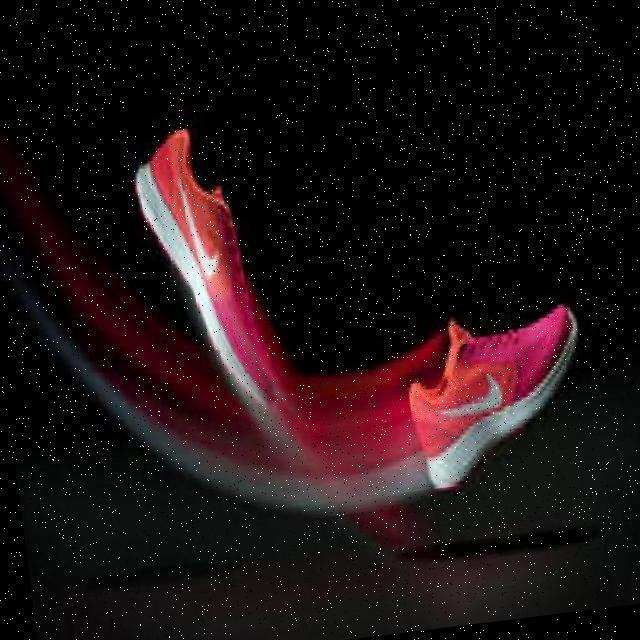Nike: (179, 166, 225, 281), (437, 368, 510, 422)
